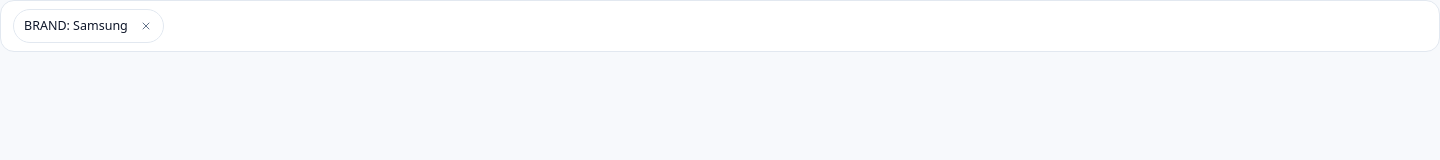
it: FacetChipInput › removes a chip through its ✕ button and fires onChange
Click the button named "Remove Brand Samsung".
click(146, 26)  # box [130,10,162,42]
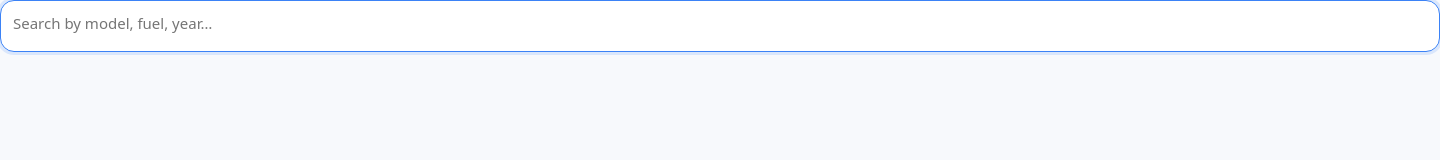
Expected: the button "BRAND: Samsung" is gone
